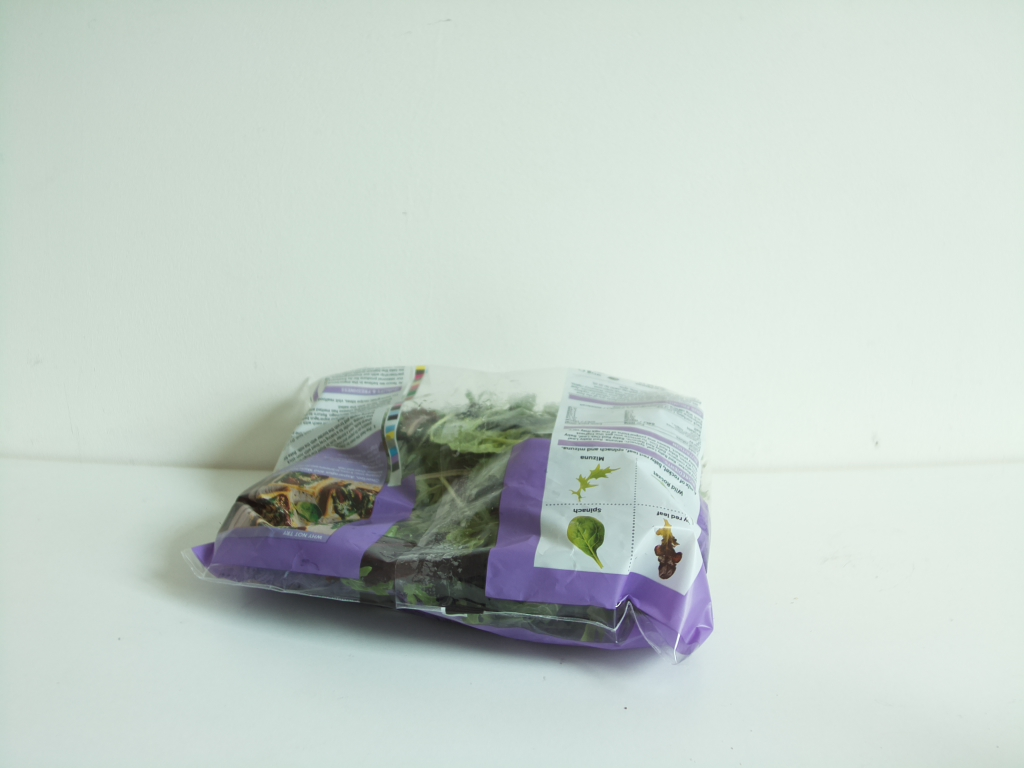salad: (196, 368, 724, 663)
